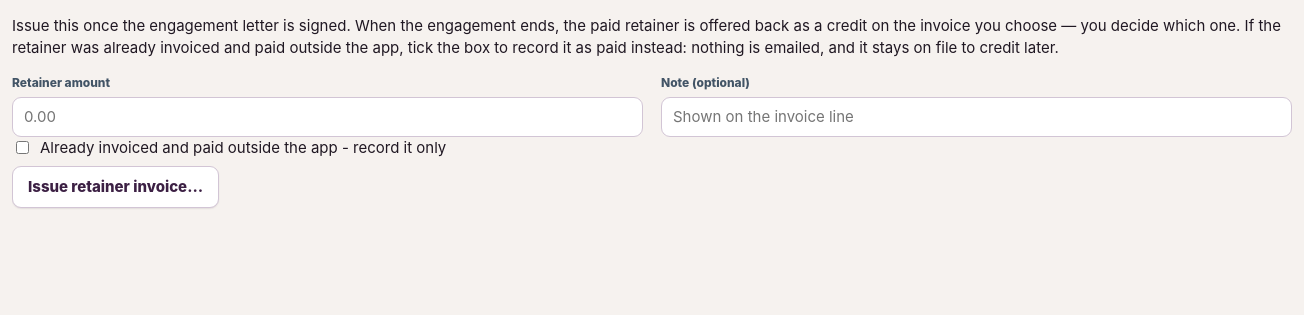
Test: RetainerSectionBody with no retainer › a first retainer then shows its position instead of a blank form
The image size is (1304, 315).
Step 1. Type "2500" into the number field with placeholder "0.00" → (328, 117), box [12,97,643,137]
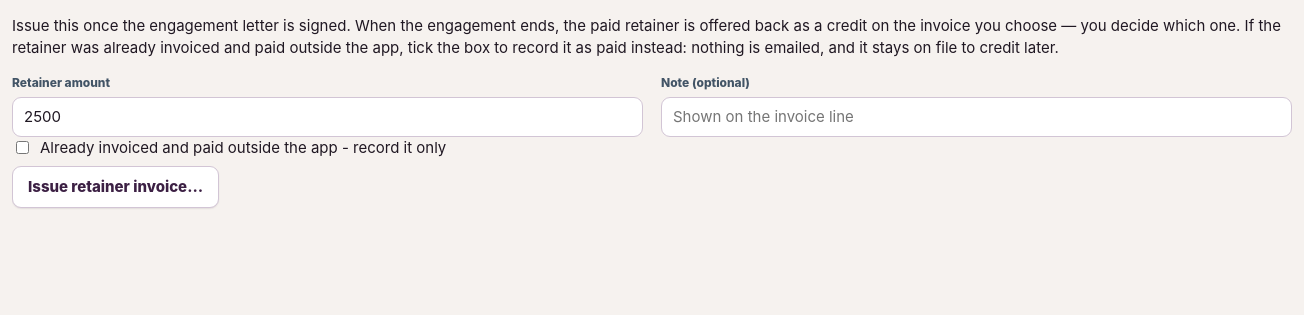
Step 2. Click the button "Issue retainer invoice…" → click(116, 187), box [12,166,219,208]
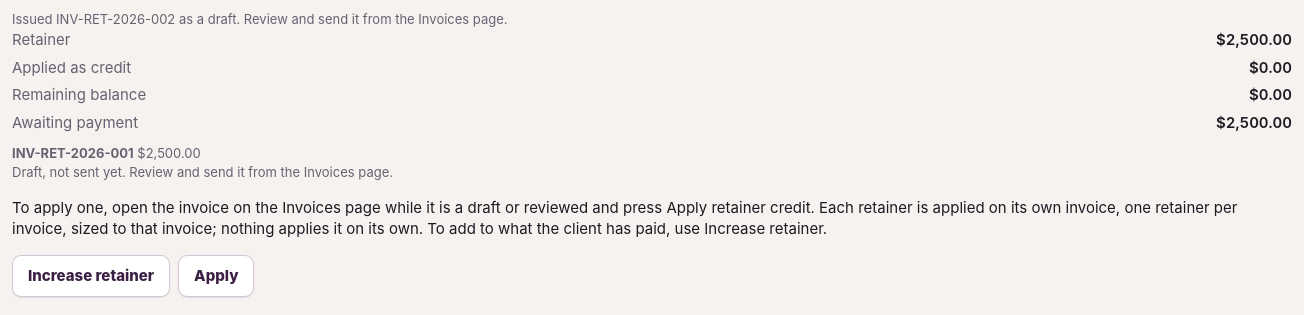
Result: the text "Issued INV-RET-2026-002 as a draft" is shown at [12,11,508,27]
Result: the element named "Retainer position" is shown at [12,29,1292,182]
